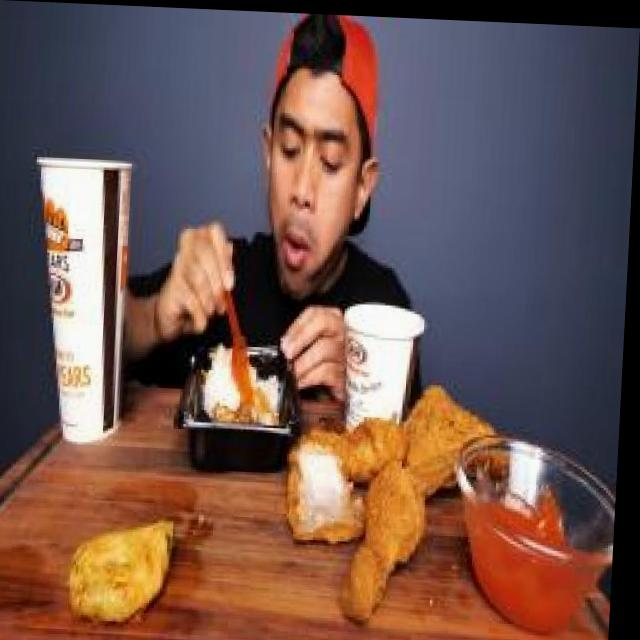AW cola: (16, 131, 145, 463)
black pepper rice bowl: (199, 306, 303, 464)
crispy corn: (343, 290, 447, 441)
fried chicken: (286, 366, 504, 611)
perkedel: (59, 493, 190, 640)
